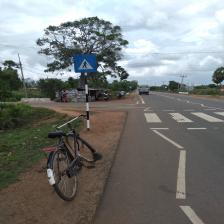blueboard: (72, 54, 98, 73)
crossing: (145, 102, 224, 134)
